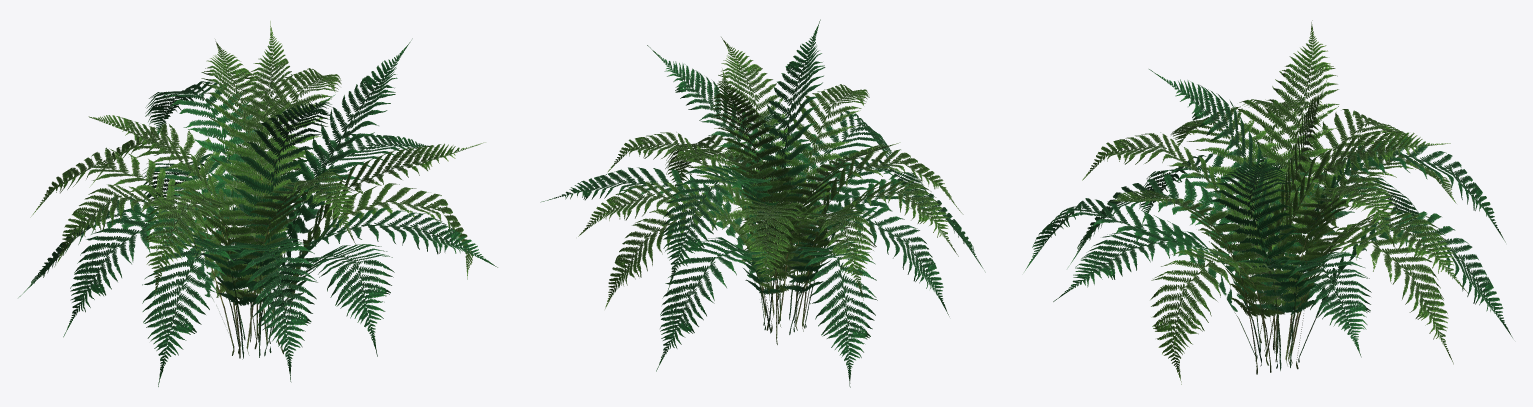
The picture shows the model from 3 angles, left to right: view 1: azimuth 30°, elevation 25°; view 2: azimuth 150°, elevation 25°; view 3: azimuth 270°, elevation 25°; orthographic projection. The views are drawn at different scales.
Visible parts, largest first — view 1: Leafs; view 2: Leafs; view 3: Leafs.
Boxes of the visible parts, bbox=[...] form: Leafs: bbox=[18, 21, 497, 386]; Leafs: bbox=[540, 19, 985, 387]; Leafs: bbox=[1024, 20, 1512, 384].
Bounding box in the file's own units: 1.8 × 1.25 × 1.75.
1 material, 1 textured.
